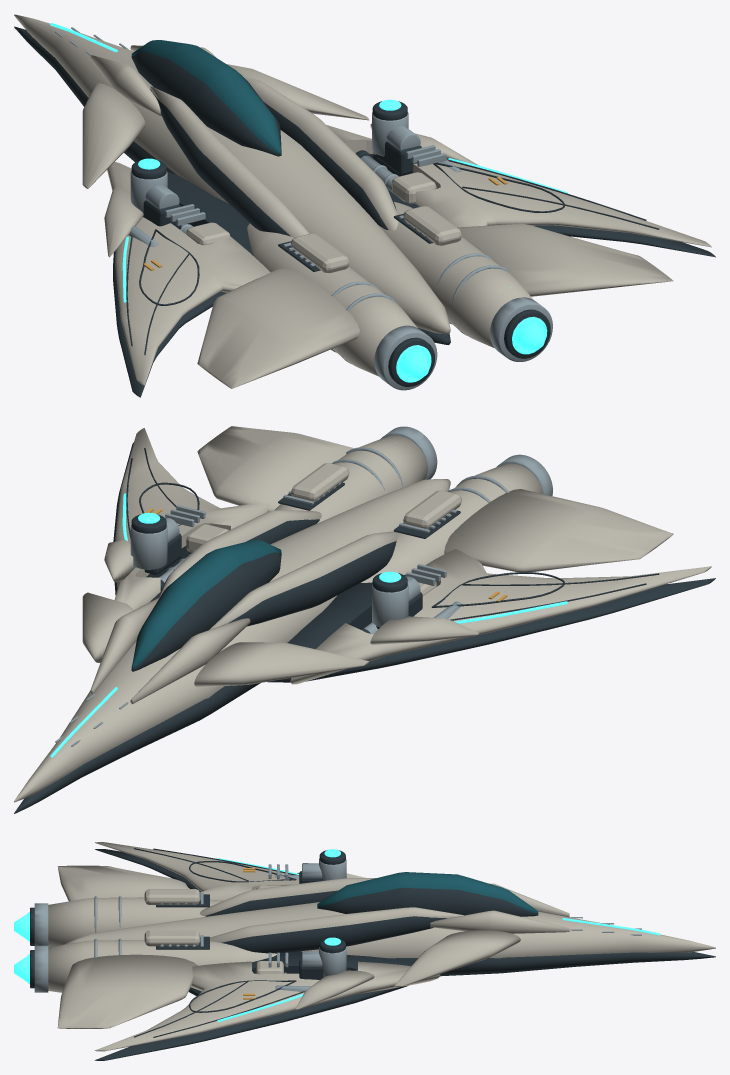
Rendered from assault-3.glb.
3 views of the same model, one above another, from view 1: azimuth 30°, elevation 25°; view 2: azimuth 150°, elevation 25°; view 3: azimuth 270°, elevation 25° (orthographic). The views are drawn at different scales.
Parts seen in each view (by area): view 1: SM_Hull, SM_Wing_Left, SM_Wing_Right, SM_Engine_Right, SM_Engine_Left, SM_Stage03, SM_Stage04, SM_Stage01, SM_Stage02, SM_Weapon_Right, SM_Weapon_Left; view 2: SM_Hull, SM_Wing_Left, SM_Wing_Right, SM_Engine_Right, SM_Engine_Left, SM_Stage03, SM_Stage04, SM_Stage02, SM_Stage01, SM_Weapon_Right; view 3: SM_Hull, SM_Wing_Right, SM_Wing_Left, SM_Engine_Left, SM_Engine_Right, SM_Stage03, SM_Stage04, SM_Stage02, SM_Stage01, SM_Weapon_Right.
Part boxes in pixels (x1,y1,x2,y2): SM_Hull: (14, 14, 450, 344); SM_Wing_Left: (82, 83, 359, 397); SM_Wing_Right: (226, 64, 715, 296); SM_Engine_Right: (379, 202, 552, 361); SM_Engine_Left: (247, 223, 437, 390); SM_Stage03: (165, 145, 461, 273); SM_Stage04: (130, 99, 408, 213); SM_Stage01: (143, 126, 421, 229); SM_Stage02: (104, 123, 477, 257); SM_Weapon_Right: (355, 150, 462, 203); SM_Weapon_Left: (129, 222, 230, 246); SM_Hull: (14, 479, 450, 813); SM_Wing_Left: (194, 489, 715, 687); SM_Wing_Right: (82, 426, 353, 662); SM_Engine_Right: (274, 426, 437, 523); SM_Engine_Left: (361, 454, 552, 582); SM_Stage03: (165, 463, 461, 585); SM_Stage04: (130, 512, 408, 627); SM_Stage02: (104, 540, 479, 644); SM_Stage01: (144, 517, 422, 628); SM_Weapon_Right: (159, 524, 228, 591); SM_Hull: (64, 872, 715, 976); SM_Wing_Right: (57, 930, 520, 1060); SM_Wing_Left: (57, 842, 299, 901); SM_Engine_Left: (14, 892, 223, 947); SM_Engine_Right: (14, 935, 276, 992); SM_Stage03: (144, 864, 288, 967); SM_Stage04: (319, 849, 346, 977); SM_Stage02: (295, 872, 374, 1009); SM_Stage01: (299, 863, 323, 979); SM_Weapon_Right: (256, 961, 311, 991).
Bounding box in the file's own units: 7.16 × 1.58 × 10.08.
